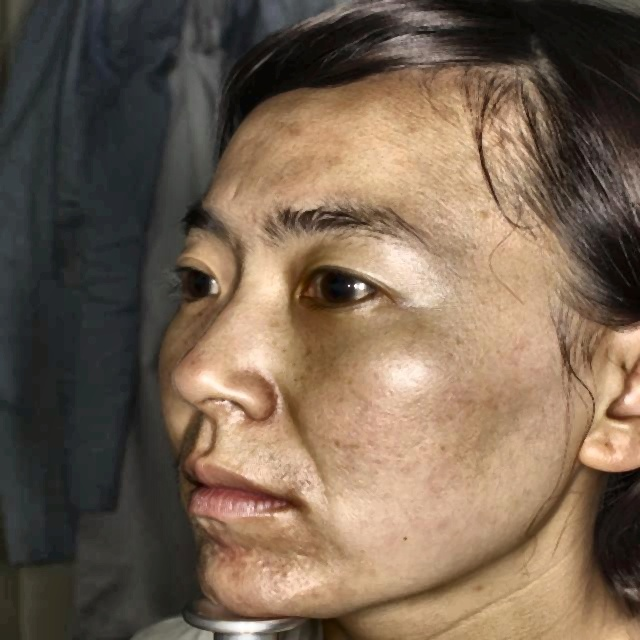comedone: (220, 553, 260, 581), (208, 522, 242, 550)
